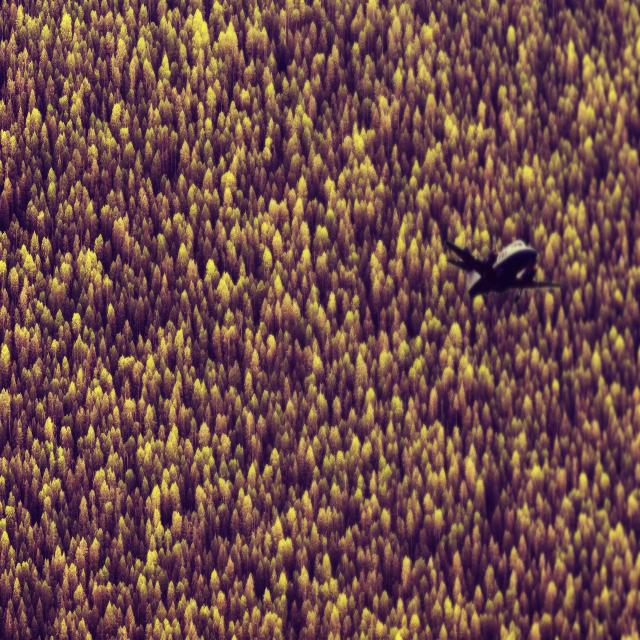airplane: (444, 236, 562, 307)
